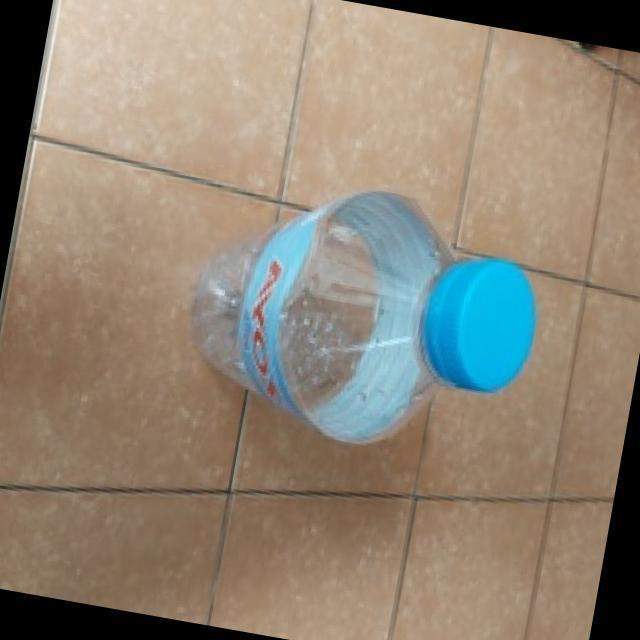good: (152, 166, 574, 489)
